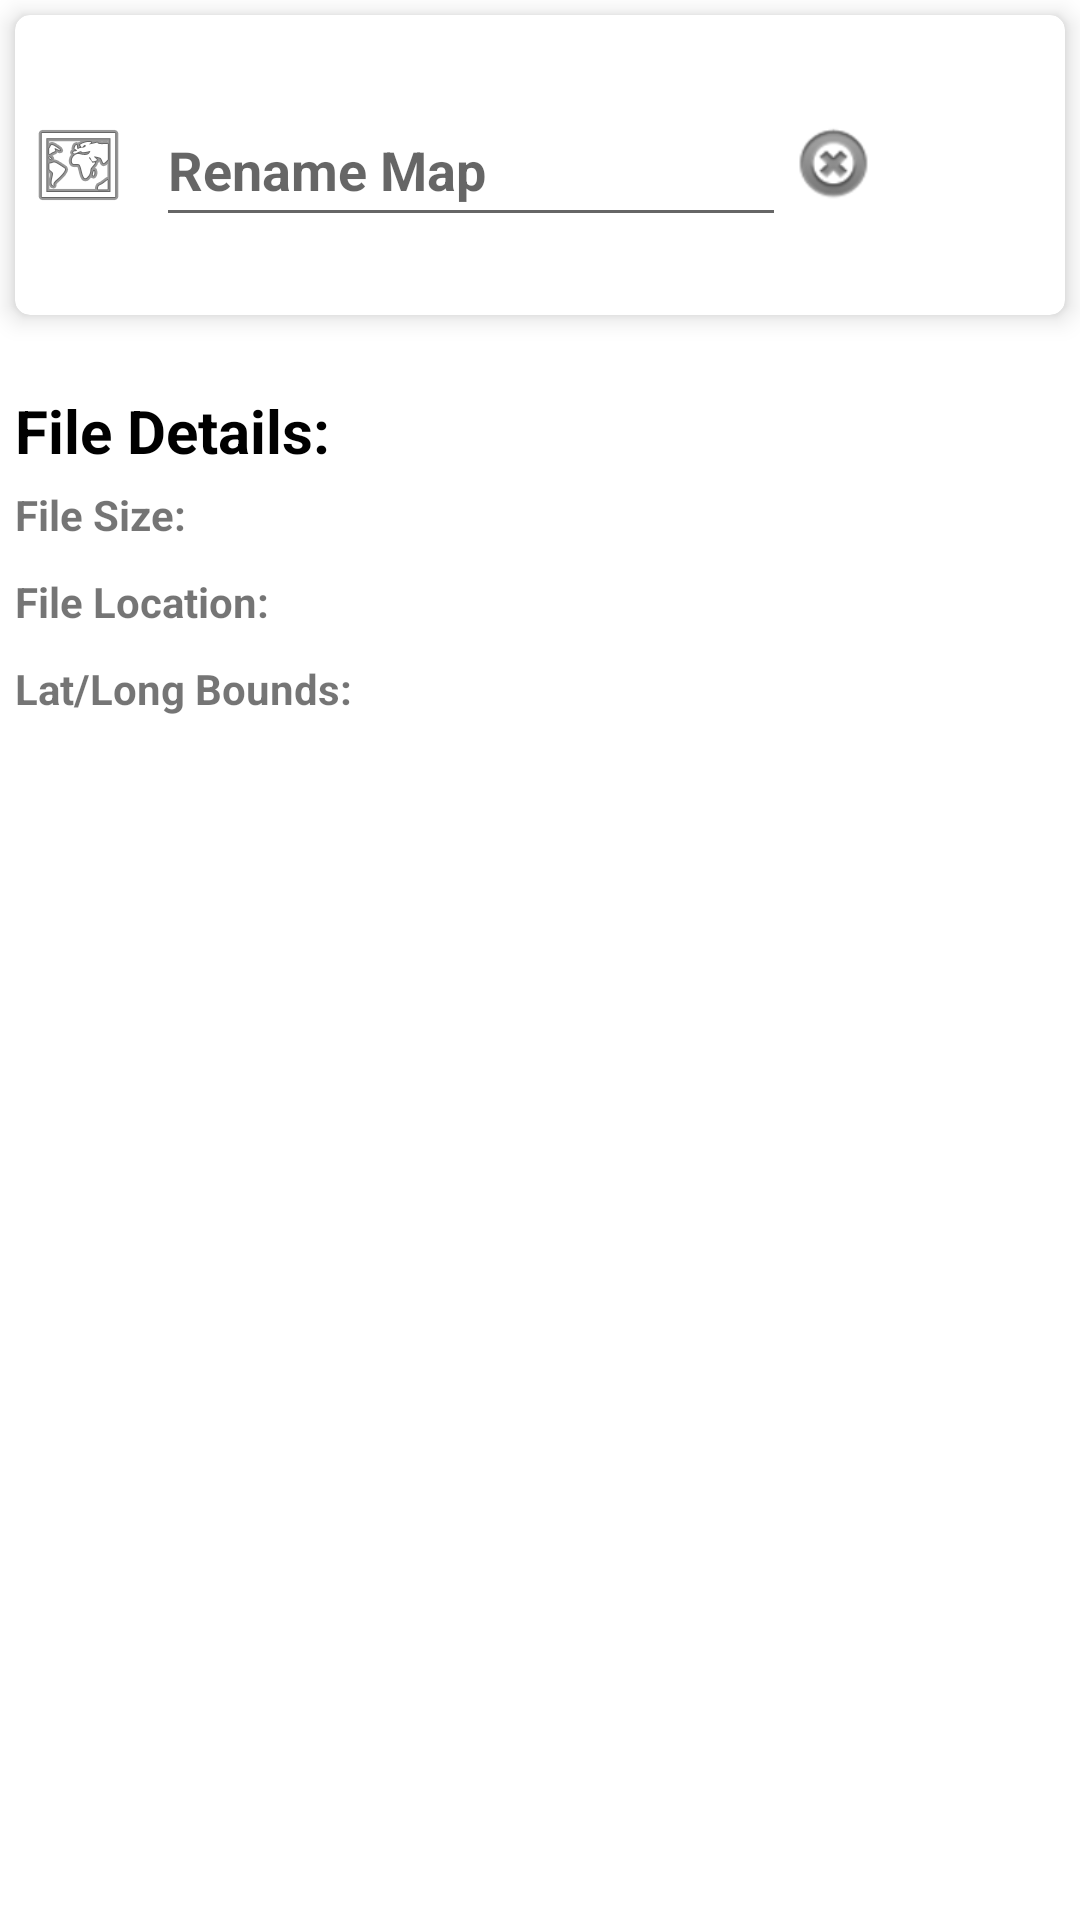

Screen size 1080×1920. Icon name, then its box in pixels as (x1, y1, x2, y2):
Clear Name: (799, 129, 868, 197)
Image of the PDF: (38, 130, 119, 200)
